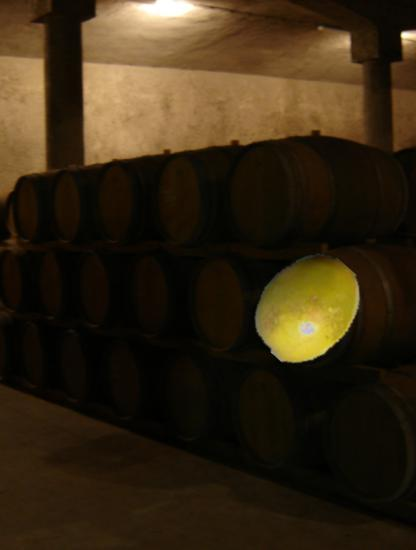Maracuja: (250, 251, 365, 366)
